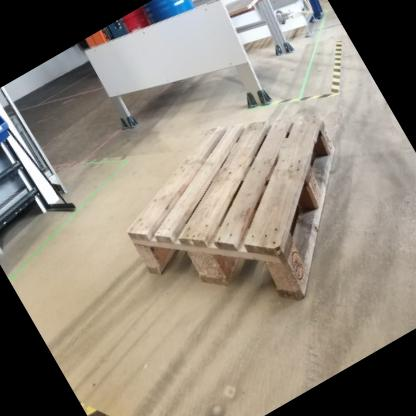BoxFace: (123, 113, 344, 314)
